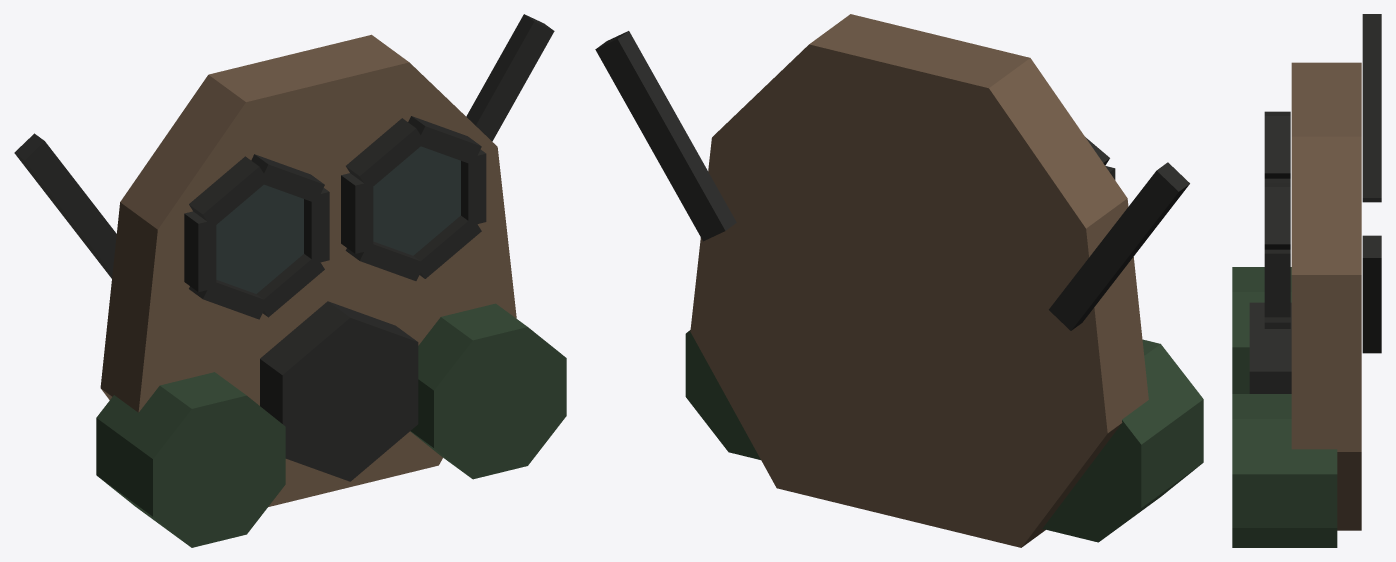
Rendered from gas_mask.obj.
3 renders of one model, left to right at view 1: azimuth 30°, elevation 25°; view 2: azimuth 150°, elevation 25°; view 3: azimuth 270°, elevation 25°, orthographic. The views are drawn at different scales.
Visible parts, largest first — view 1: gas_mask; view 2: gas_mask; view 3: gas_mask.
Part boxes in pixels (x1,y1,x2,y2): gas_mask: (14,14,566,547); gas_mask: (595,14,1203,547); gas_mask: (1232,14,1381,547).
Size of the model in its own units: 1.62 by 1.2 by 0.4275.
